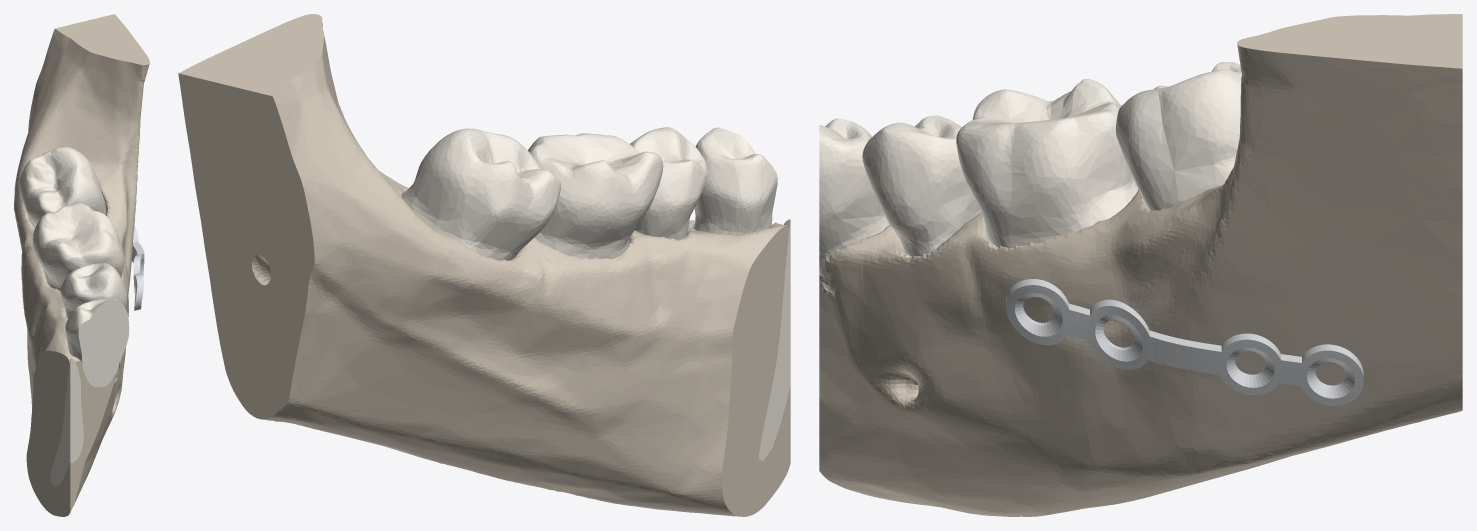
The model's file is 3-plate.glb.
The picture shows the model from 3 angles, left to right: view 1: azimuth 30°, elevation 25°; view 2: azimuth 150°, elevation 25°; view 3: azimuth 270°, elevation 25°; orthographic projection. The views are drawn at different scales.
Parts seen in each view (by area): view 1: bone, teeth, plate; view 2: bone, teeth; view 3: bone, teeth, plate.
Boxes of the visible parts, x1,y1,x2,y2 form: bone: (14, 14, 149, 516); teeth: (18, 146, 129, 486); plate: (131, 226, 144, 310); bone: (178, 14, 790, 516); teeth: (402, 127, 790, 461); bone: (819, 14, 1462, 516); teeth: (819, 62, 1241, 292); plate: (1006, 279, 1363, 405).
Size of the model in its own units: 0.032 by 0.0474 by 0.044.
